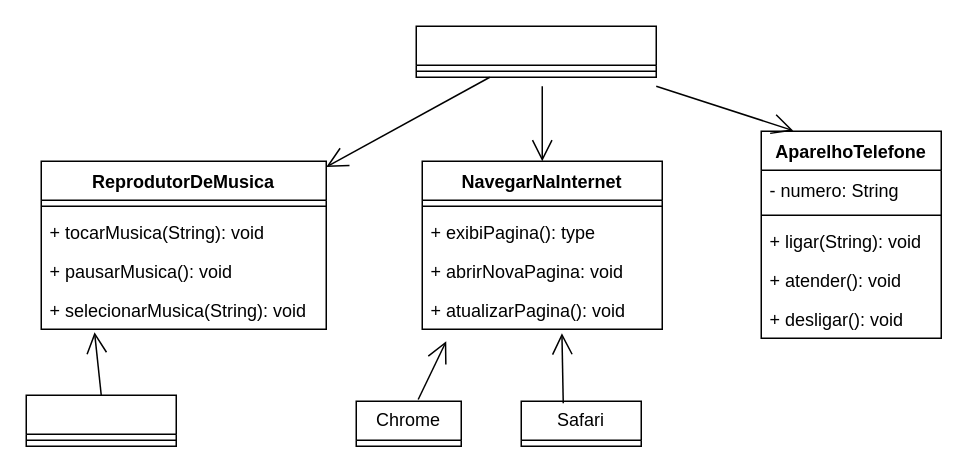
Some shapes in this 968 by 473 pixel diagram are drawn without their labels. The centre of each missing label's shape, as x and y in pixels:
"AppleMusic" goes at (x=100, y=420).
"IPhone" goes at (x=535, y=51).
